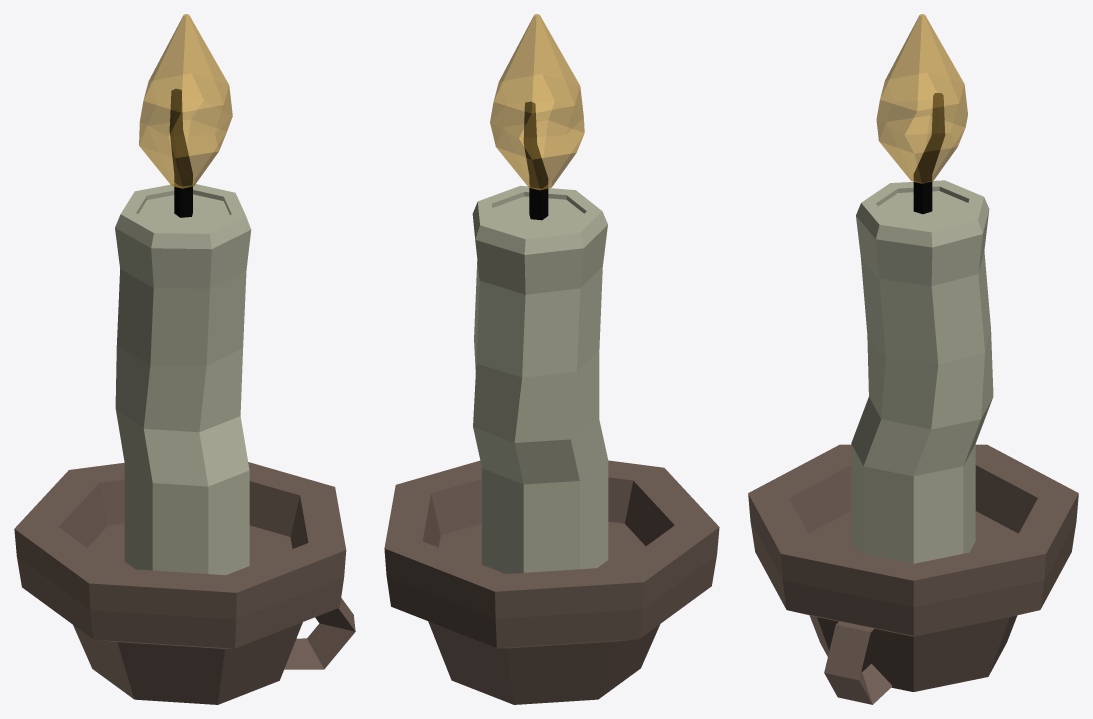
File: CandleSeparate.fbx
3 views of the same model, side by side, from view 1: azimuth 30°, elevation 25°; view 2: azimuth 150°, elevation 25°; view 3: azimuth 270°, elevation 25° (orthographic). The views are drawn at different scales.
Parts seen in each view (by area): view 1: polySurface4, polySurface5, polySurface2, polySurface3, polySurface1; view 2: polySurface4, polySurface5, polySurface2, polySurface1; view 3: polySurface5, polySurface4, polySurface2, polySurface3, polySurface1.
Boxes of the visible parts, left/top/right/bottom form: polySurface4: left=14, top=462, right=346, bottom=704; polySurface5: left=115, top=184, right=251, bottom=575; polySurface2: left=139, top=14, right=232, bottom=188; polySurface3: left=284, top=598, right=355, bottom=669; polySurface1: left=169, top=89, right=192, bottom=217; polySurface4: left=384, top=460, right=719, bottom=704; polySurface5: left=472, top=185, right=608, bottom=573; polySurface2: left=490, top=14, right=584, bottom=190; polySurface1: left=523, top=101, right=548, bottom=220; polySurface5: left=851, top=180, right=993, bottom=563; polySurface4: left=748, top=444, right=1078, bottom=691; polySurface2: left=876, top=14, right=967, bottom=183; polySurface3: left=824, top=621, right=892, bottom=704; polySurface1: left=913, top=93, right=945, bottom=214.
Bounding box in the file's own units: 2.28 × 4.97 × 2.34.
